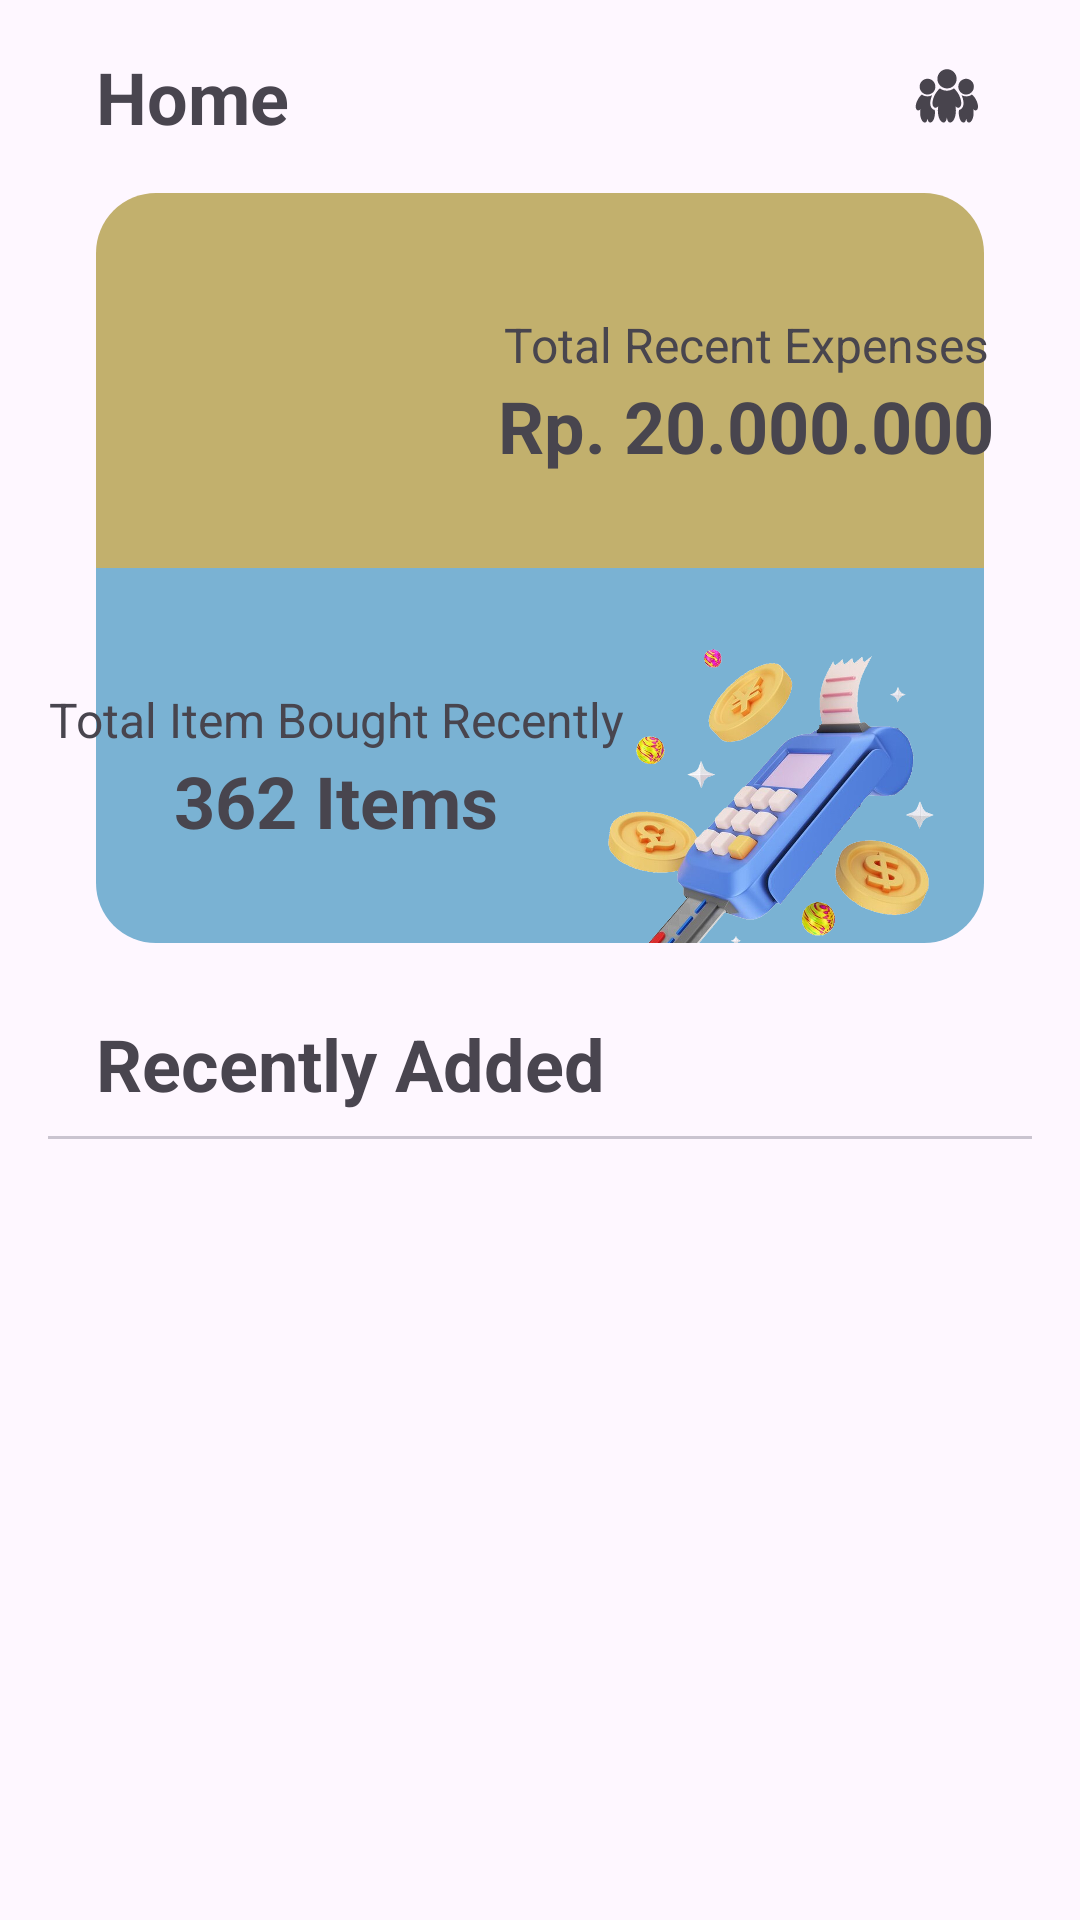

Where to tap for icons on this 1080w x 1920h app screen, as [x,y]:
people: [946,96]
